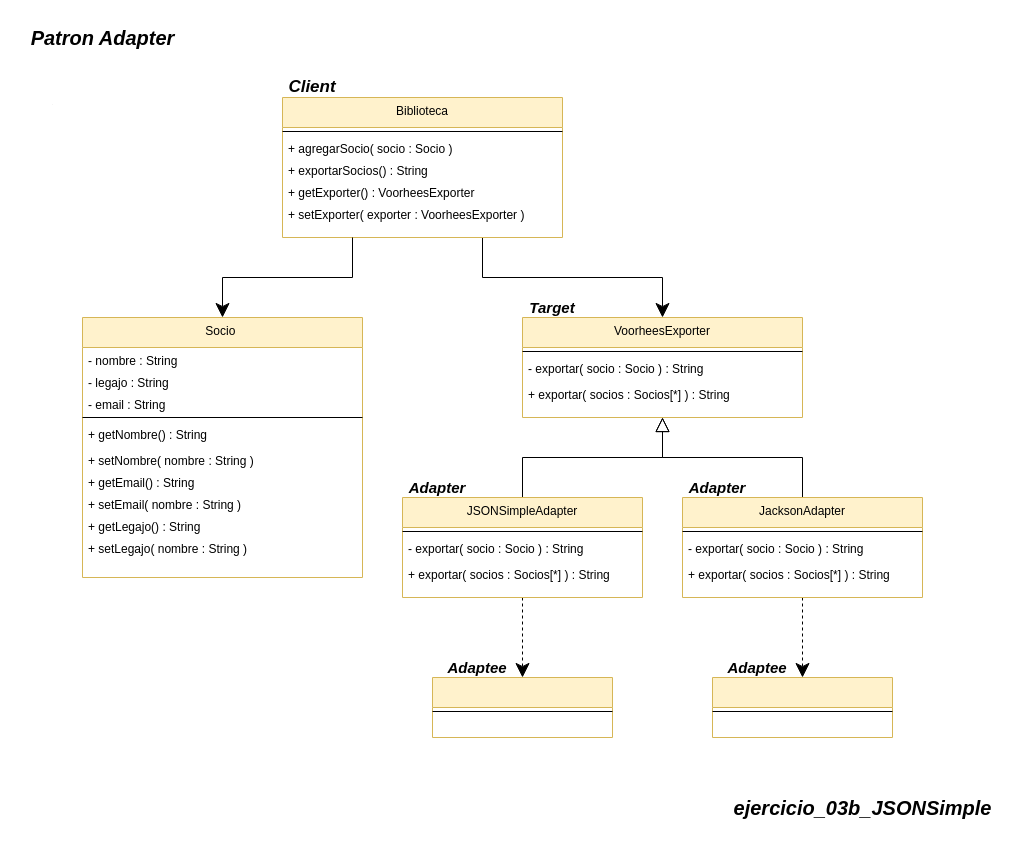
This 1019x844 diagram has some shape labels left out. The shapes that lost their labels are listed below. From the top down, each one's box as (x1, y1, x2, y2) in pixels, then its label:
(432, 676, 612, 738): JSONSimple
(712, 676, 892, 738): Jackson
